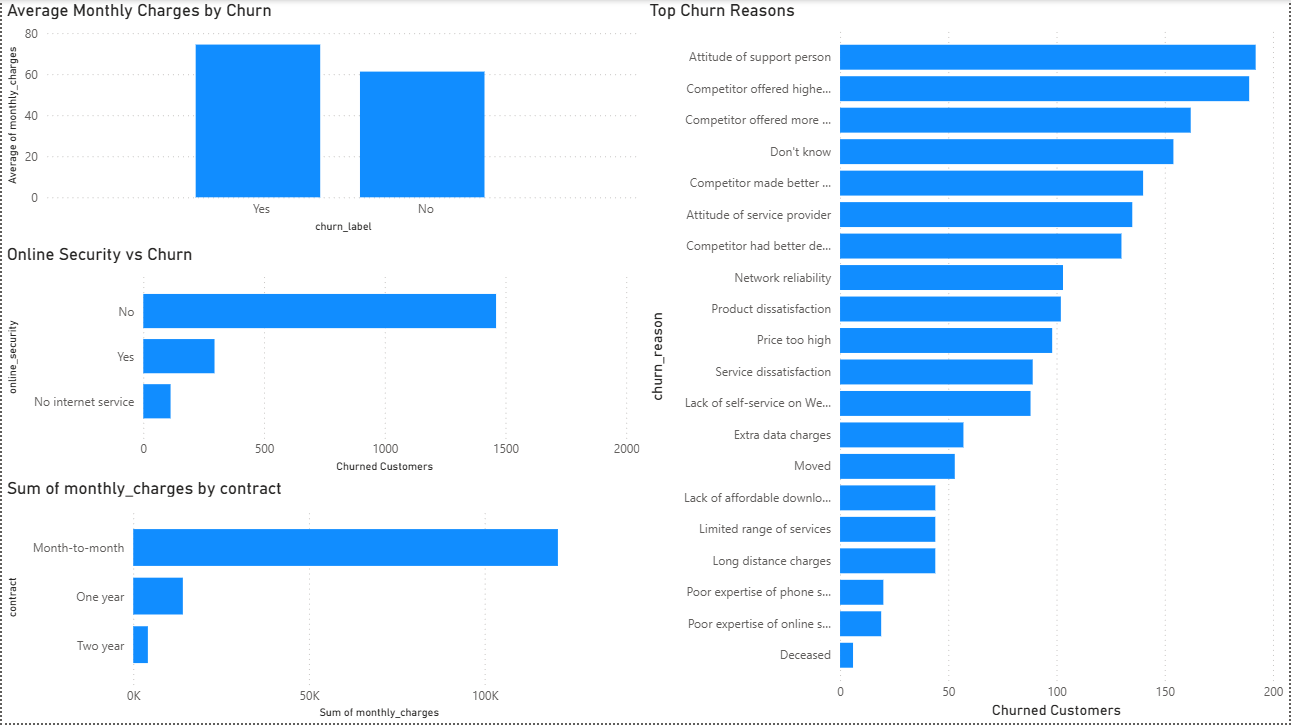

The page's visual inventory and layout, read from the dashboard file:
{"tool":"powerbi","page":{"name":"Churn Drivers & Revenue","canvas":[1280,720],"ordinal":2},"visuals":[{"type":"clusteredColumnChart","title":"Average Monthly Charges by Churn","fields":{"Category":["cleaned_churn_data.churn_label"],"Y":["Avg(cleaned_churn_data.monthly_charges)"]},"box":[0,0,639.4,236.4],"z":0},{"type":"barChart","title":"Online Security vs Churn","fields":{"Category":["cleaned_churn_data.online_security"],"Y":["cleaned_churn_data.Churned Customers"]},"box":[0,242.6,639.4,232.6],"z":1},{"type":"barChart","title":"Top Churn Reasons","fields":{"Category":["cleaned_churn_data.churn_reason"],"Y":["cleaned_churn_data.Churned Customers"]},"box":[639.4,0,640.6,720.3],"z":2},{"type":"barChart","fields":{"Category":["cleaned_churn_data.contract"],"Y":["Sum(cleaned_churn_data.monthly_charges)"]},"box":[0,475.2,639.4,245.1],"z":3}]}

Visuals, with their boxes in screenshot pixels (x1, y1, x2, y2), scaled from the page's 1280x720 canvas onto the 1291x727 screenshot:
"Average Monthly Charges by Churn" clusteredColumnChart: 0:0:645:239
"Online Security vs Churn" barChart: 0:245:645:480
"Top Churn Reasons" barChart: 645:0:1290:726
barChart - cleaned_churn_data.contract x Sum(cleaned_churn_data.monthly_charges): 0:480:645:726
